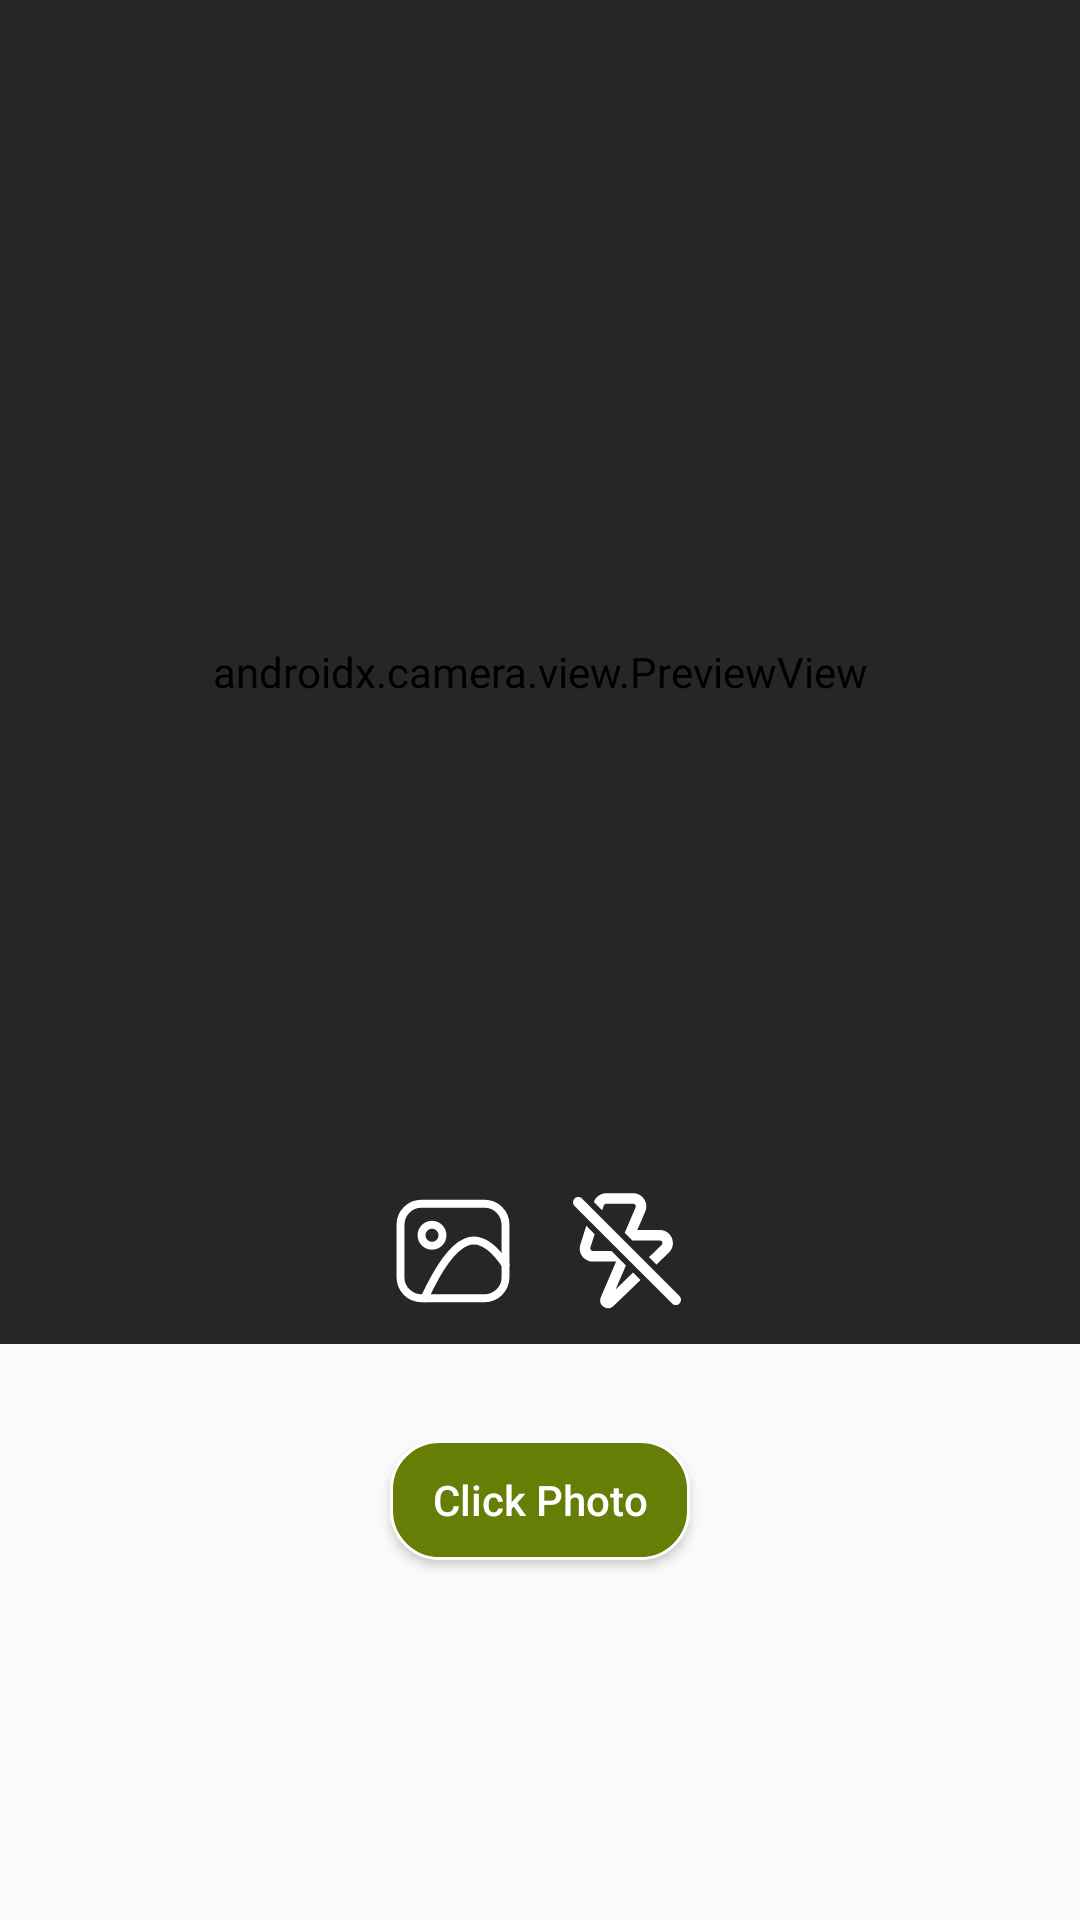

Named icons in this screenshot (1080w x 1920h) and their centers, (x,y):
flash off: (627,1251)
